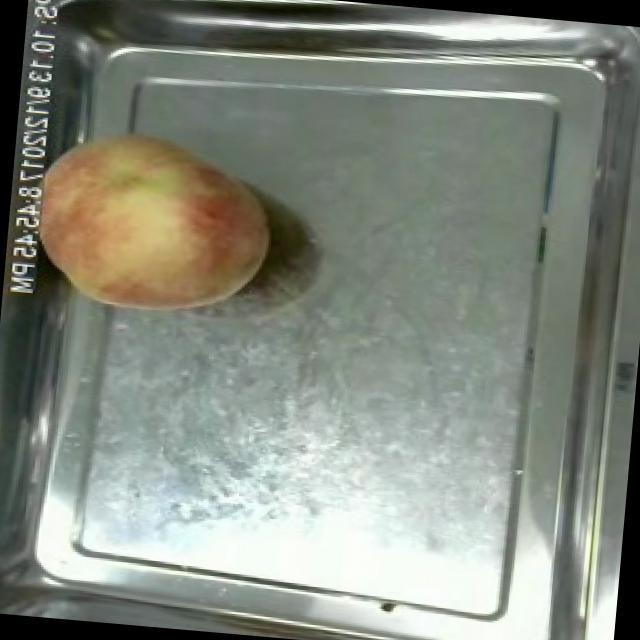Fruit: (10, 113, 286, 330)
